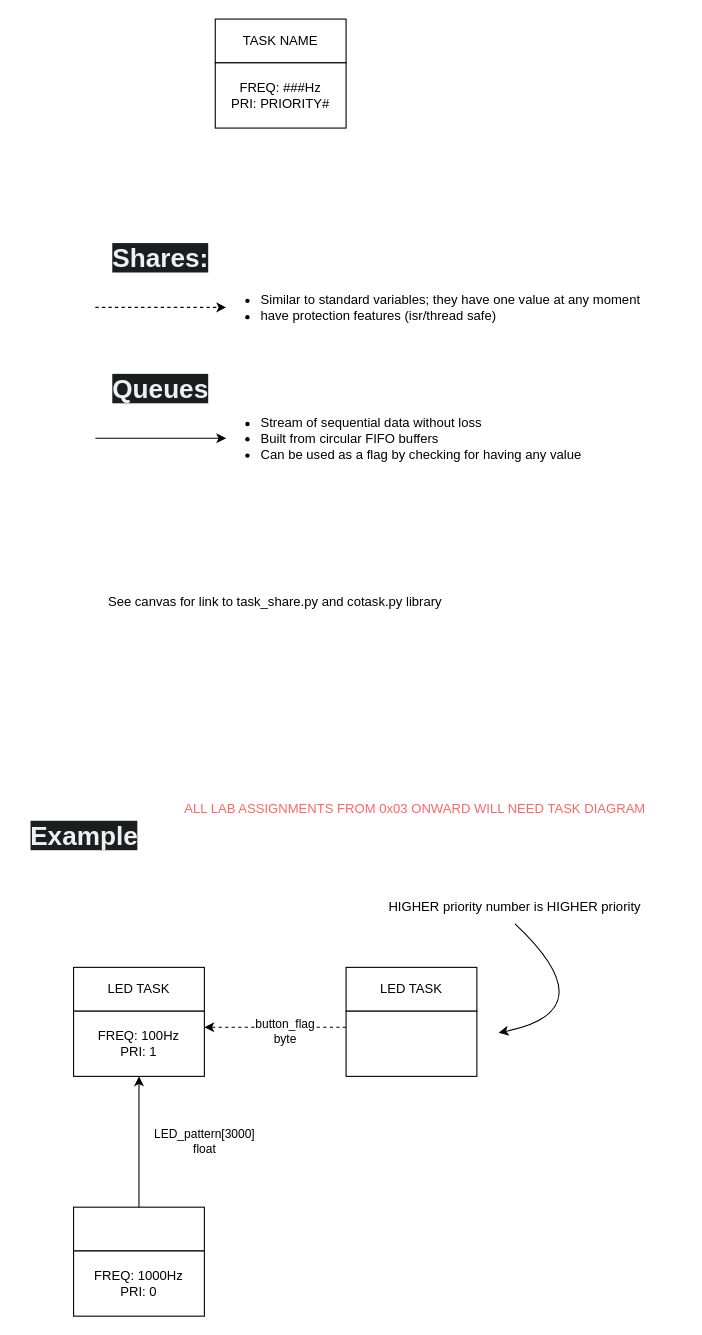
This 702x1335 diagram has some shape labels left out. Each missing label, with the box of its shape:
FREQ: NA (ISR) PRI: ∞: (345, 1010, 477, 1076)
USER TASK: (72, 1206, 204, 1251)
